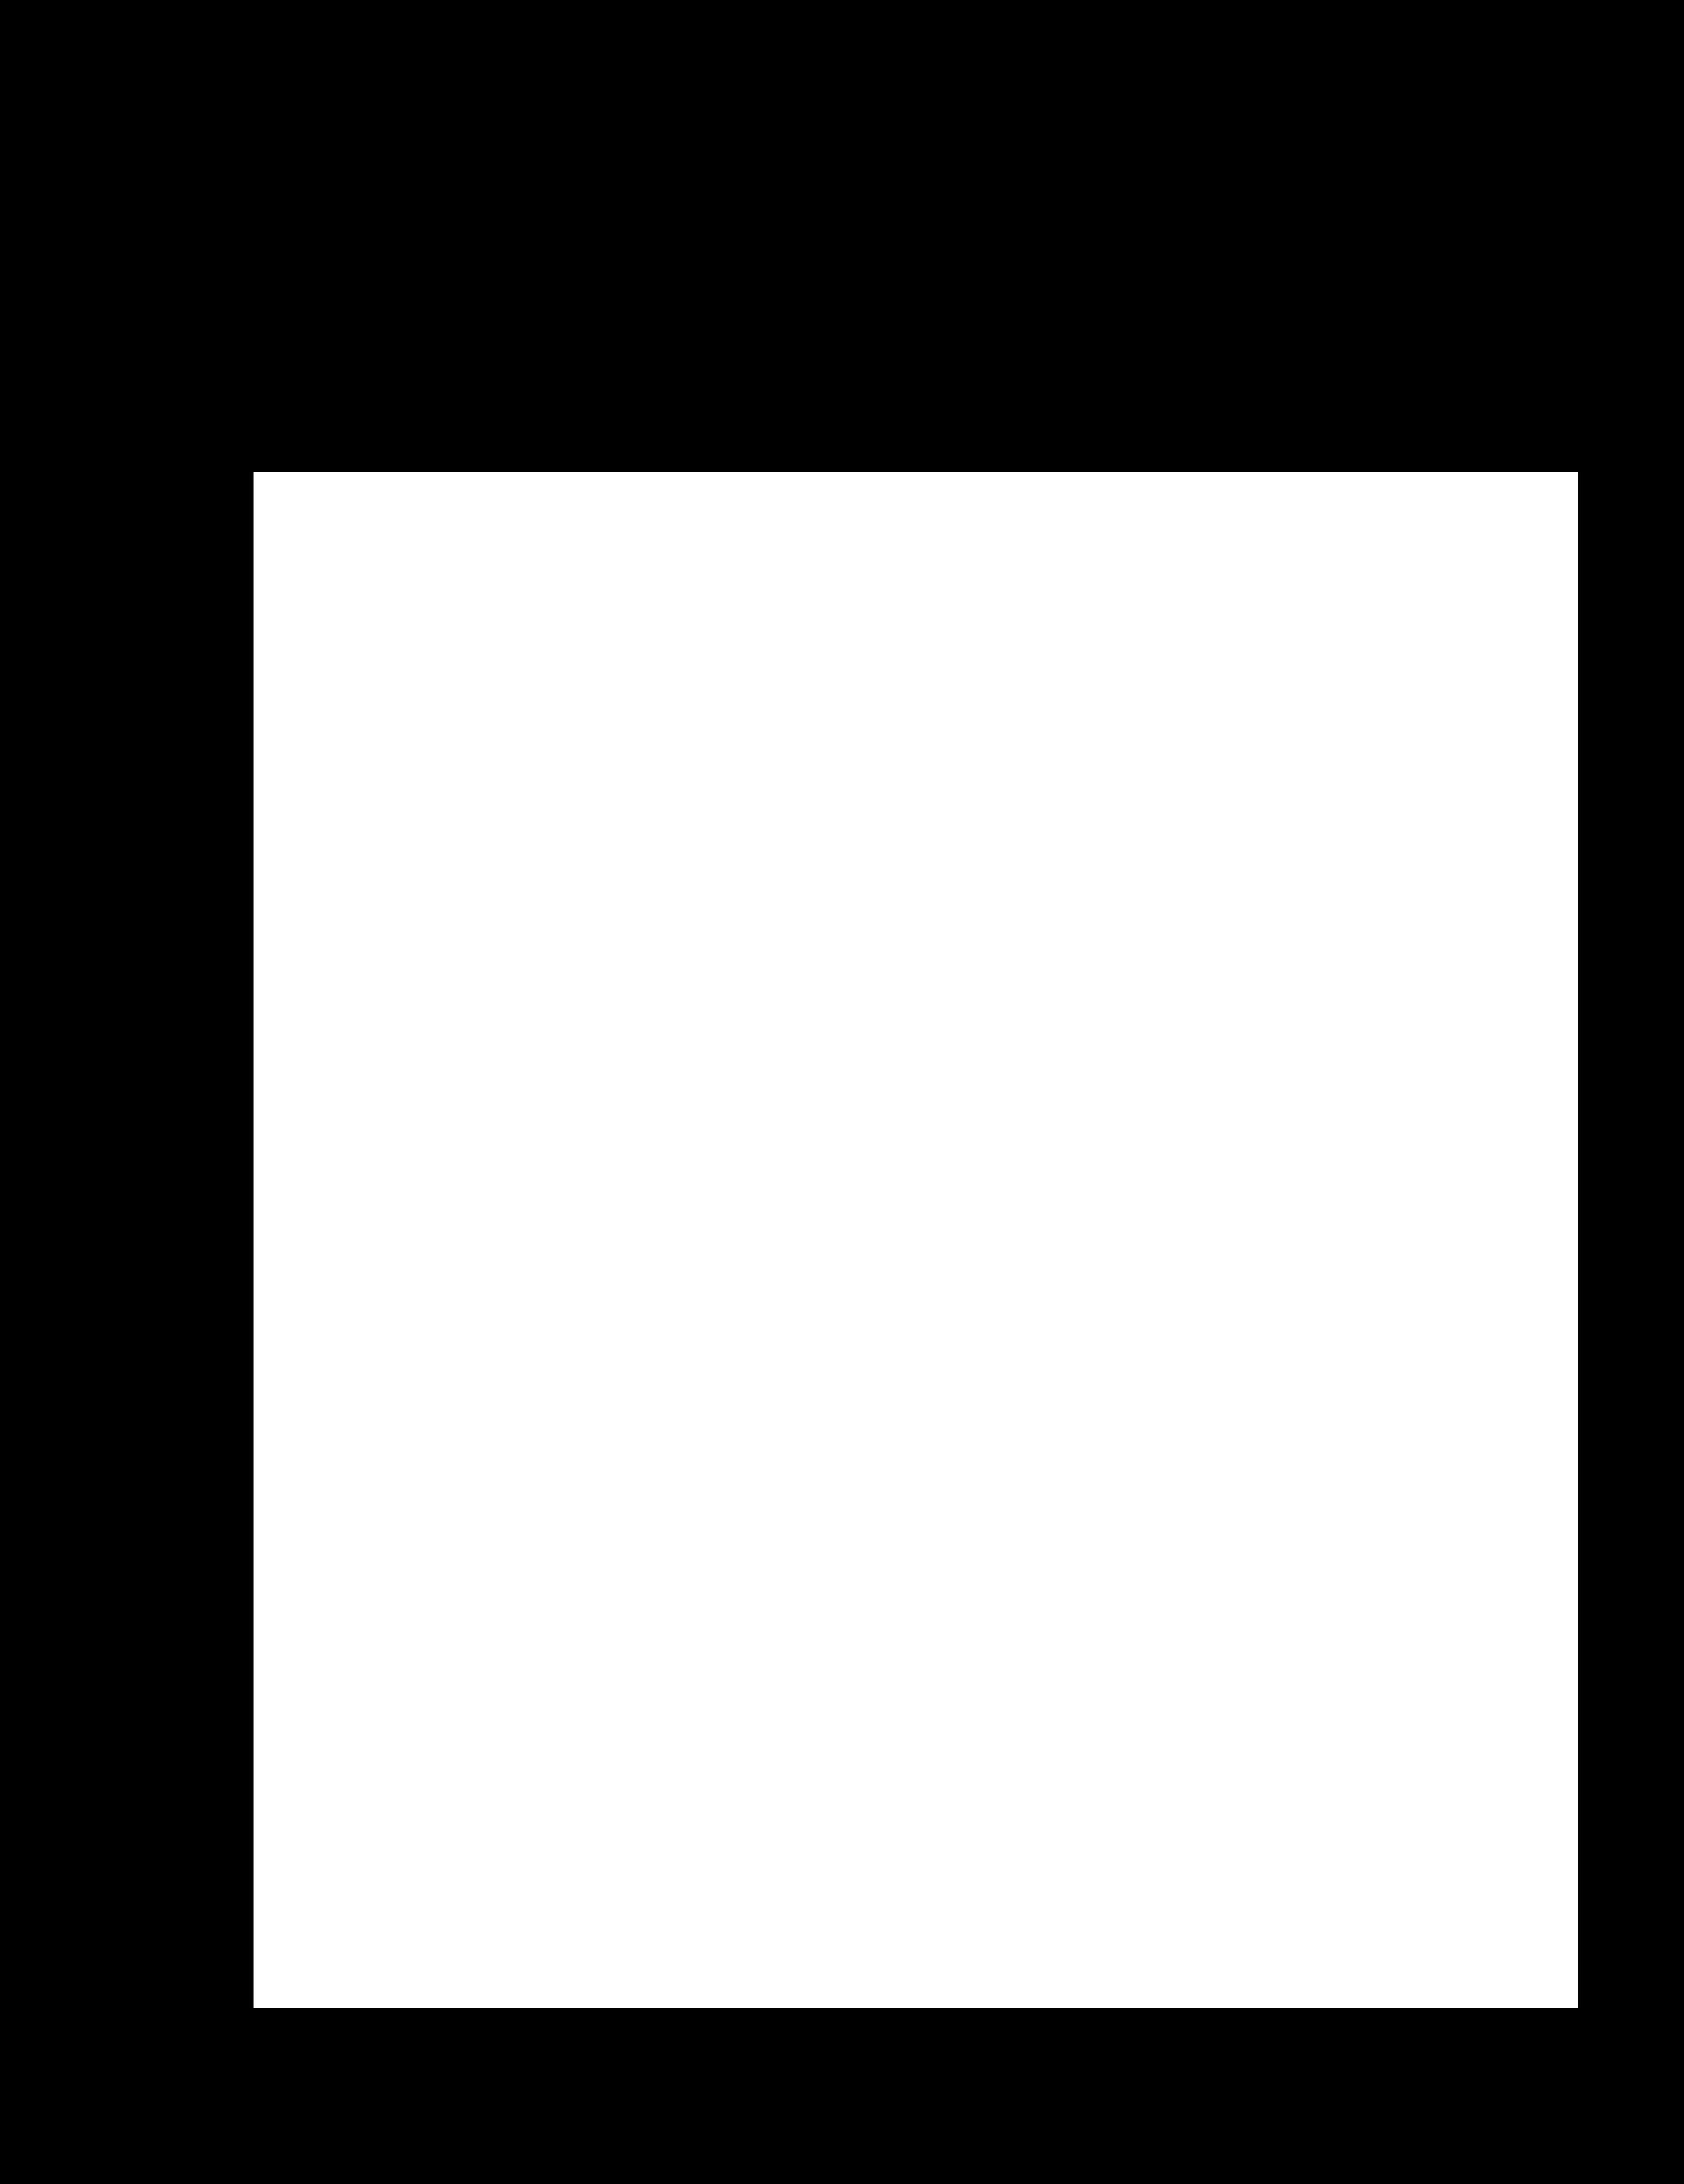table: (253, 472, 1578, 2007)
